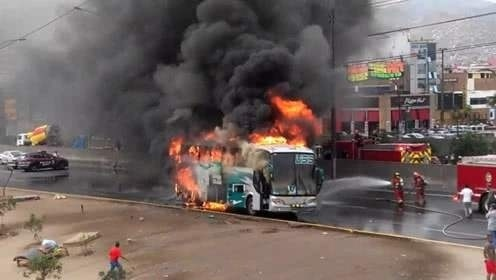fire: (172, 94, 322, 219)
